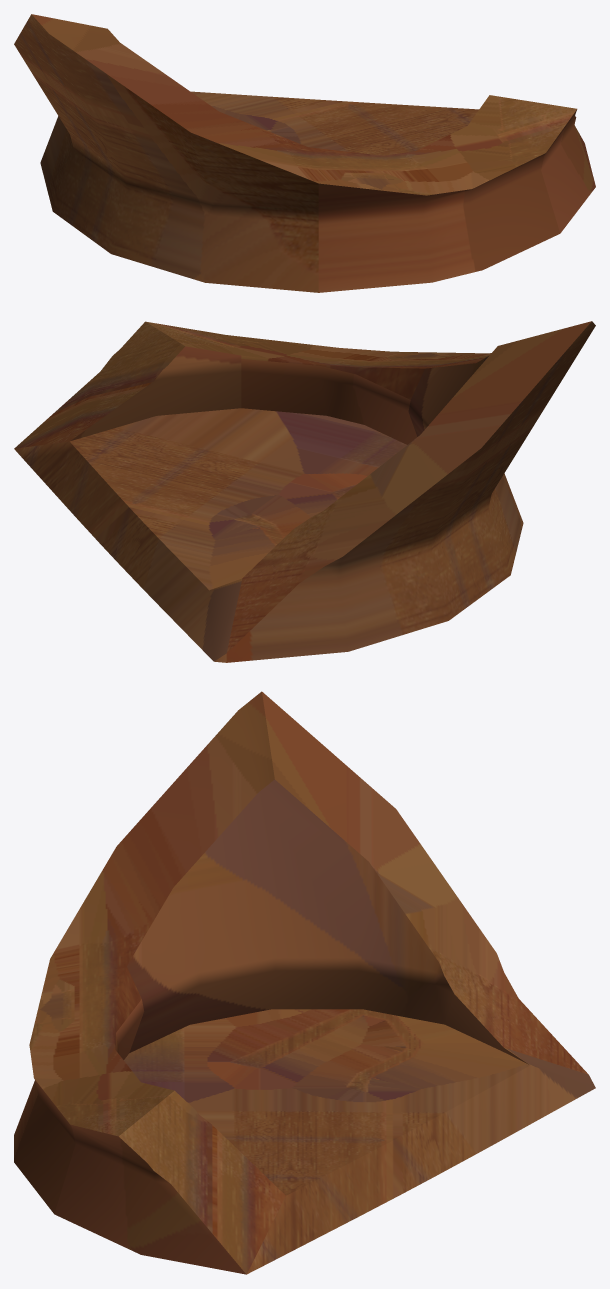
The model's file is brokebottle2-10.fbx.
3 views of the same model, one above another, from view 1: azimuth 30°, elevation 25°; view 2: azimuth 150°, elevation 25°; view 3: azimuth 270°, elevation 25° (orthographic). The views are drawn at different scales.
Visible parts, largest first — view 1: polySurface15; view 2: polySurface15; view 3: polySurface15.
Part boxes in pixels (x1,y1,x2,y2): polySurface15: (14, 14, 595, 292); polySurface15: (14, 321, 595, 662); polySurface15: (14, 691, 595, 1274).
Bounding box in the file's own units: 40.5 × 18.38 × 33.57.
